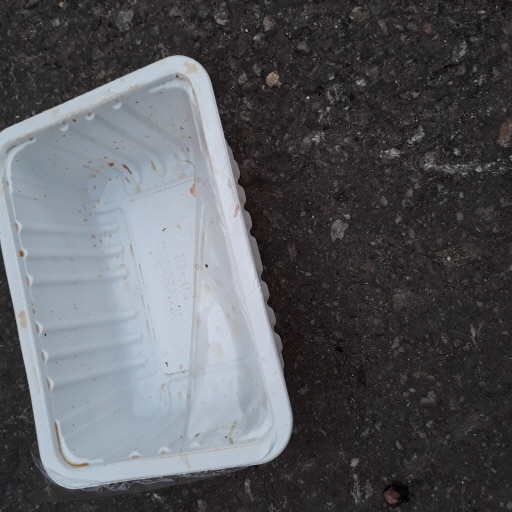Plastic_4: (1, 54, 297, 490)
